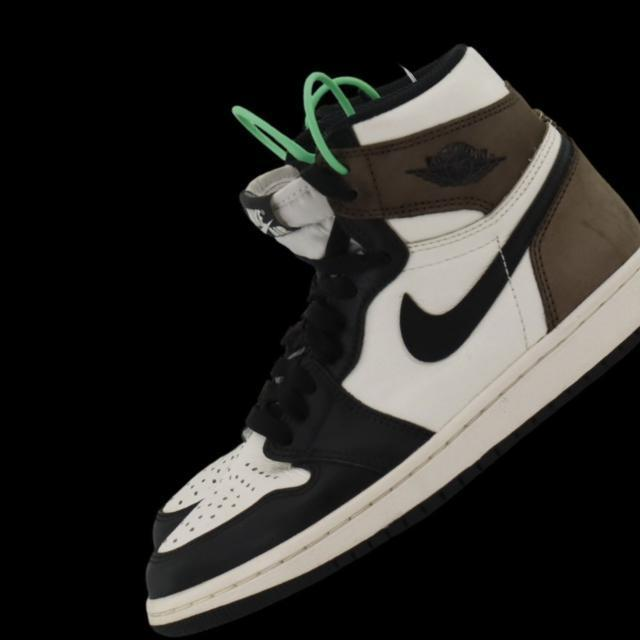nike original jordan 1: (0, 0, 640, 640), (0, 42, 560, 561)
